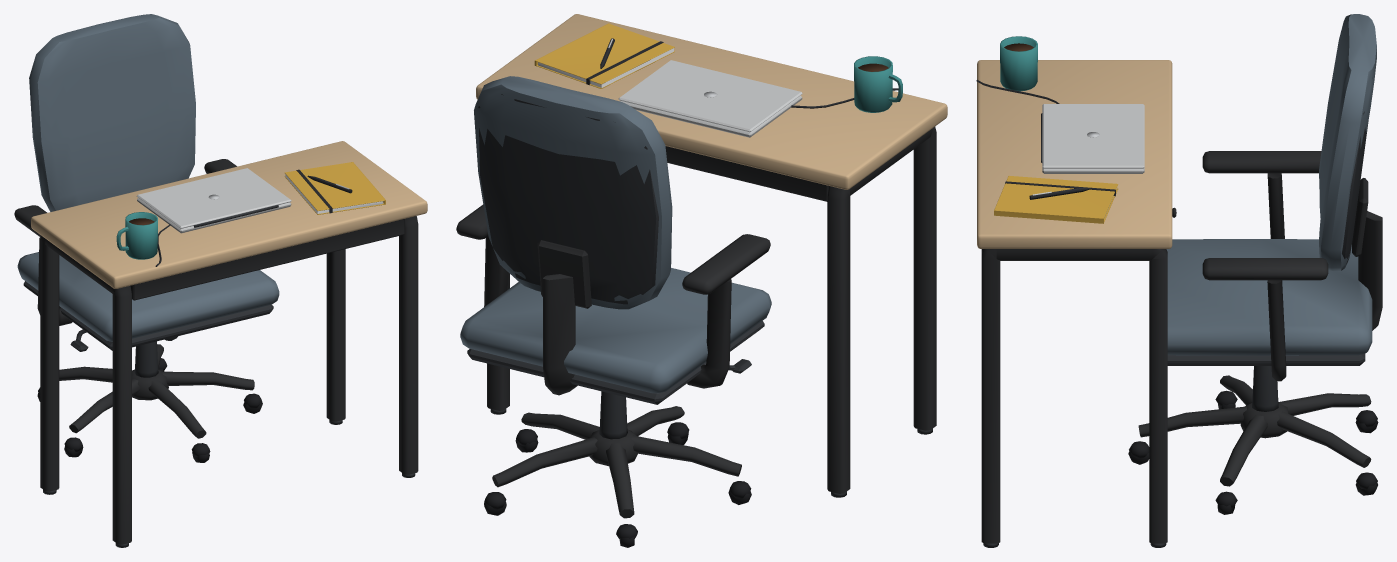
Rendered from deskLaptop.glb.
3 renders of one model, left to right at view 1: azimuth 30°, elevation 25°; view 2: azimuth 150°, elevation 25°; view 3: azimuth 270°, elevation 25°, orthographic. The views are drawn at different scales.
Parts seen in each view (by area): view 1: deskLaptop, lid; view 2: deskLaptop, lid; view 3: deskLaptop, lid.
Part boxes in pixels (x1,y1,x2,y2): deskLaptop: (14, 14, 427, 547); lid: (136, 168, 291, 228); deskLaptop: (456, 14, 947, 547); lid: (618, 60, 802, 132); deskLaptop: (976, 14, 1382, 547); lid: (1042, 104, 1144, 168).
Size of the model in its own units: 0.9 by 1.01 by 0.8744.
